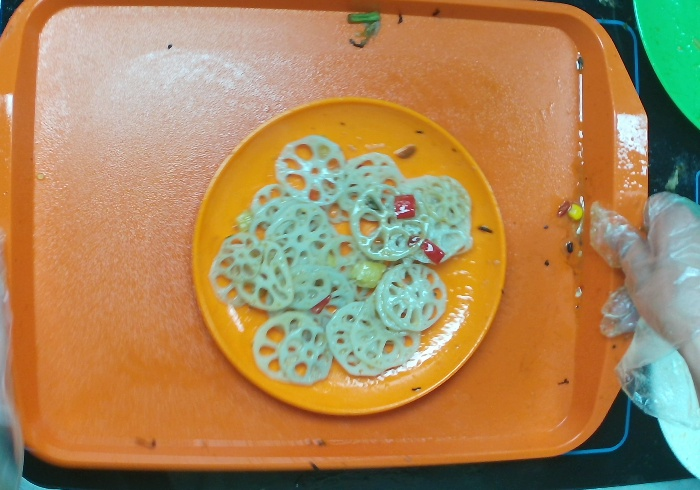HZYJPL-Ju_Huang_Yuan_Pan: (188, 95, 509, 416)
